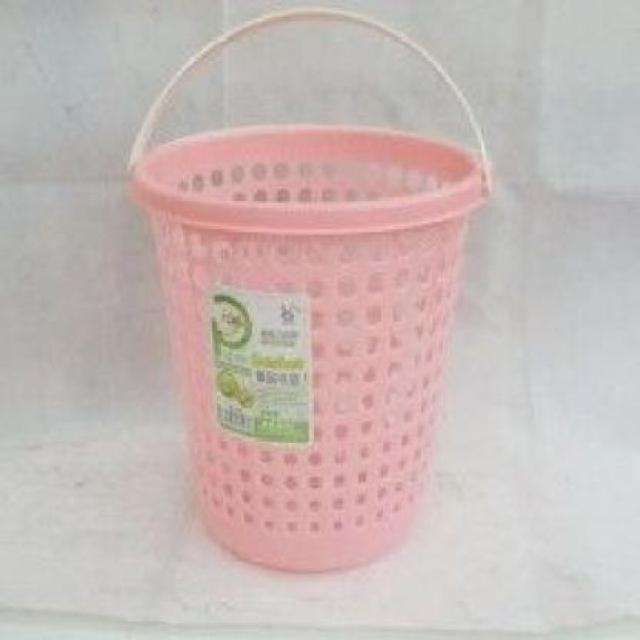dustbin: (124, 4, 498, 578)
